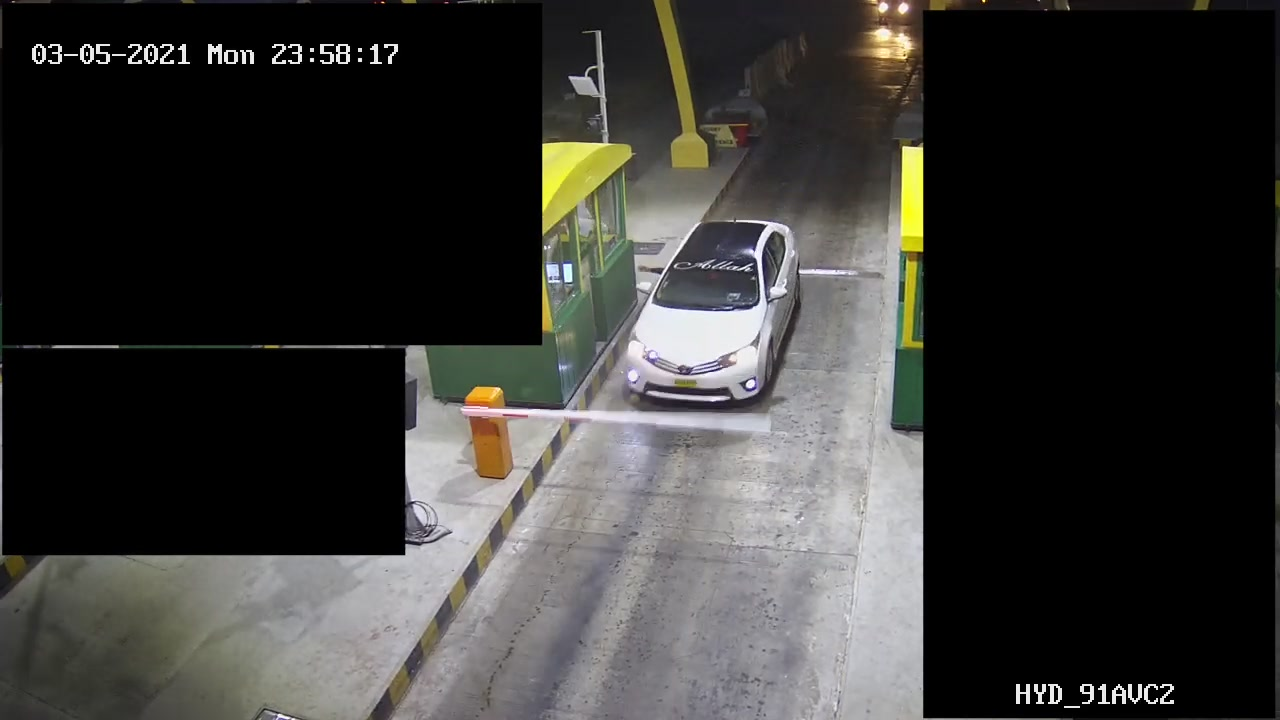F1: (620, 219, 813, 406)
